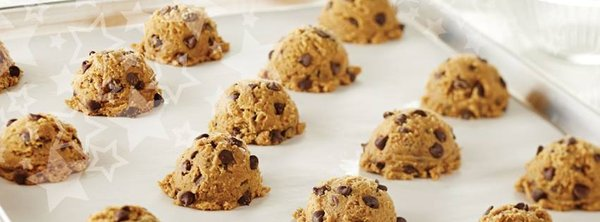curry: (0, 0, 596, 219)
sushi: (157, 130, 270, 211), (359, 108, 462, 180), (0, 112, 90, 185), (516, 135, 600, 211), (68, 48, 160, 117), (209, 77, 302, 145), (421, 51, 511, 119), (267, 25, 353, 92), (140, 2, 230, 66), (293, 175, 398, 221), (317, 0, 404, 44)
